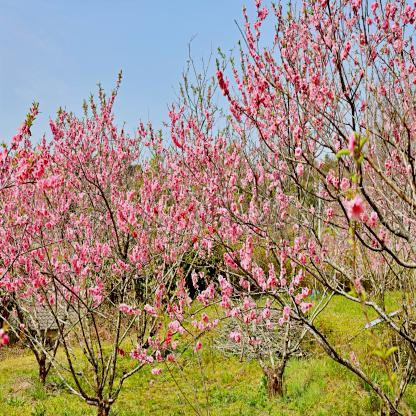Momo: (156, 1, 416, 387), (51, 61, 167, 416), (0, 85, 92, 387)
